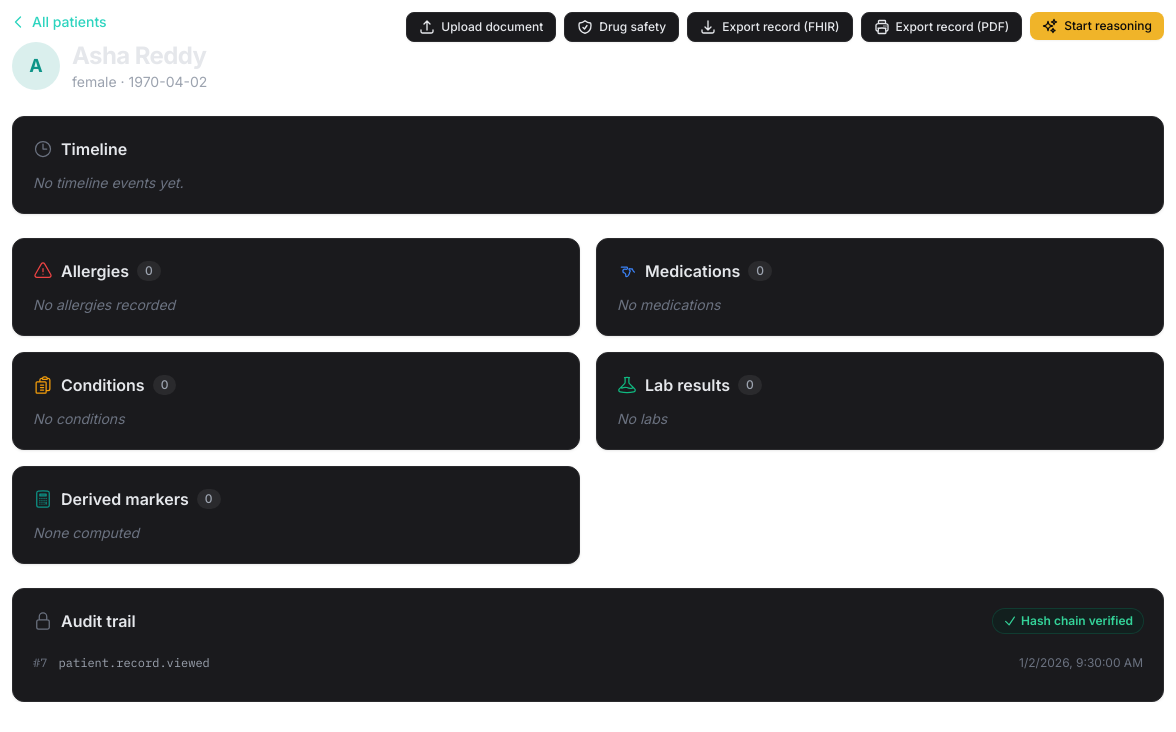
Test case: record export › retries the export the clinician actually asked for once it is confirmed
Expected: the heading "Asha Reddy" is shown, [72,40,207,72]
Click the button "Export record (PDF)" at (941,27), box [860,12,1022,42]
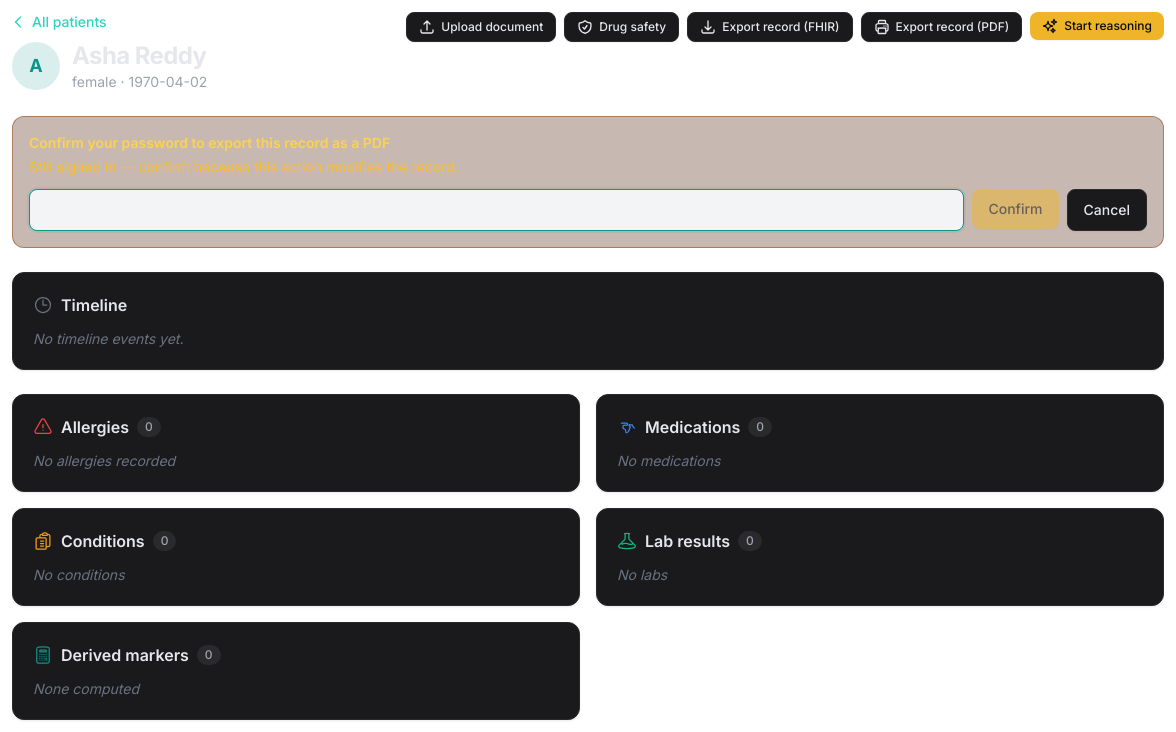
Result: the password field named "Password" is shown
Type "password123" into the password field named "Password" at (497,210), box [29,189,964,231]
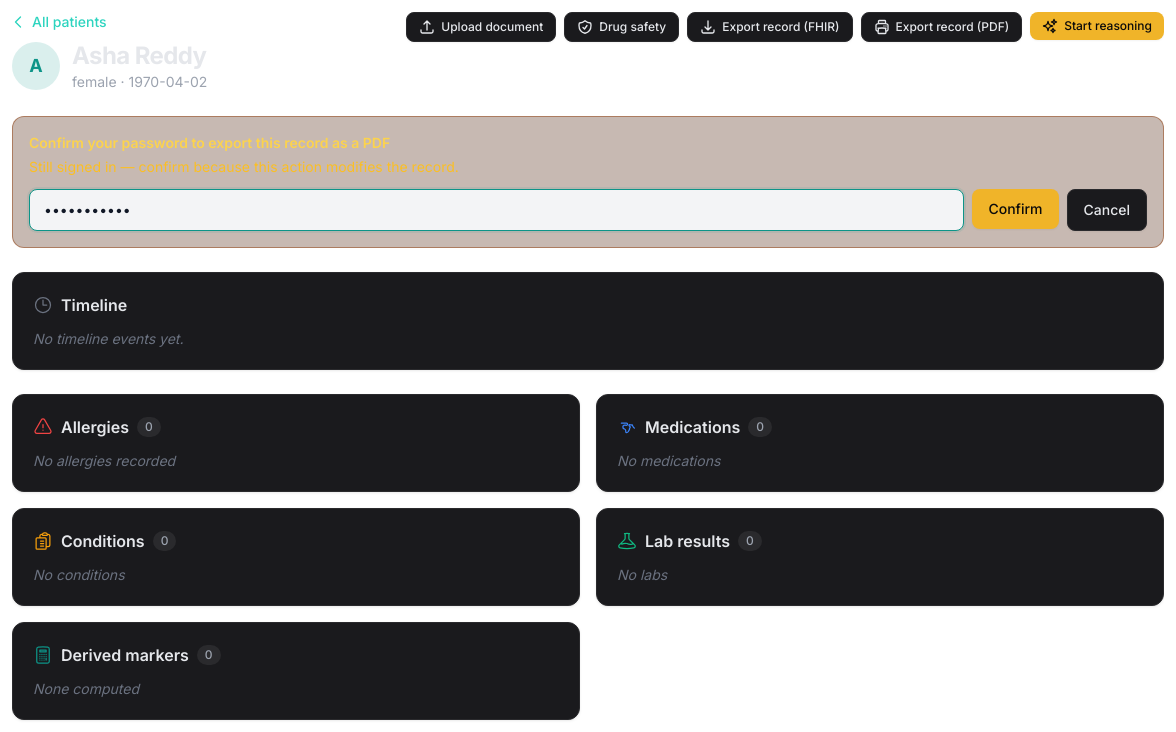
Click the button "Confirm" at (1016,209), box [972,189,1059,229]
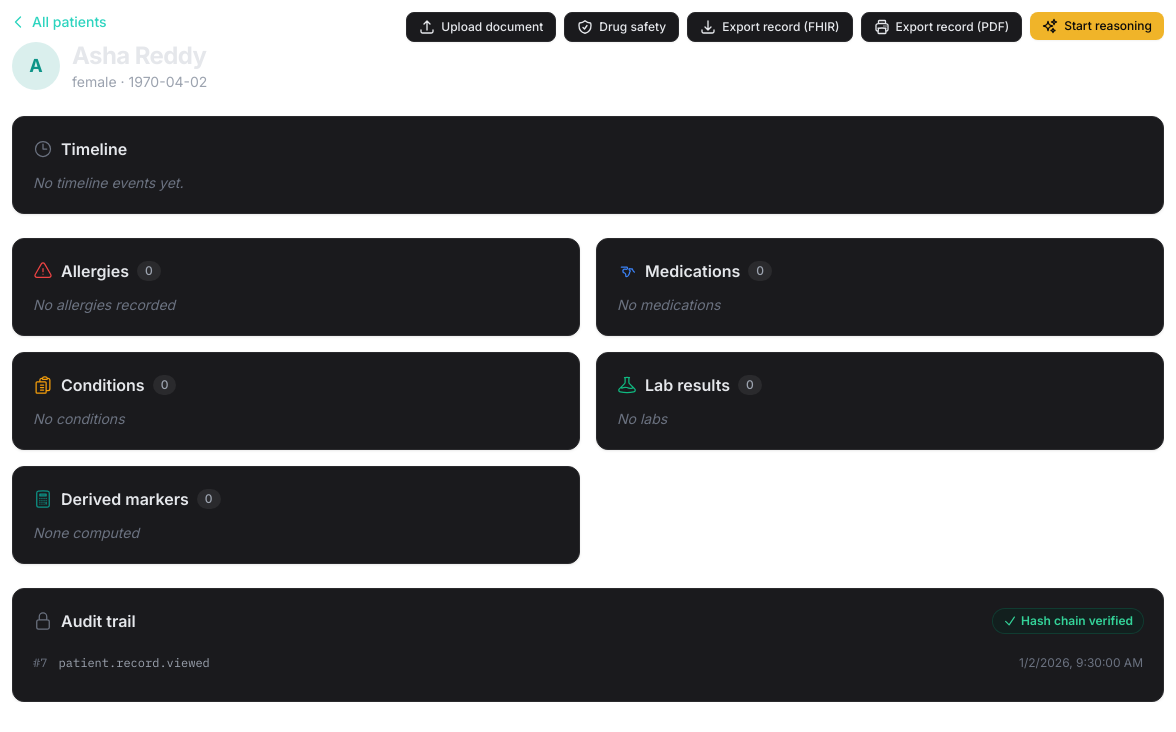
Result: the heading labelled "password" is gone
